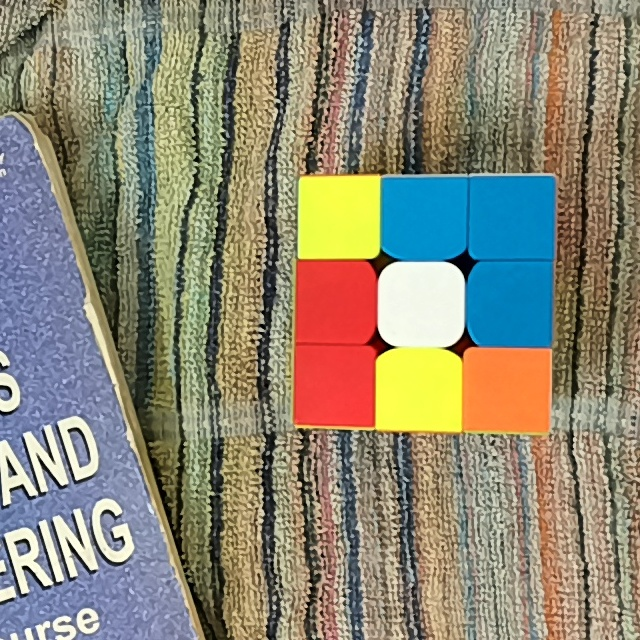tile: (469, 353, 546, 427), (476, 181, 552, 255), (478, 267, 550, 340), (386, 181, 460, 251), (304, 182, 375, 251), (300, 349, 371, 418), (385, 355, 456, 424), (303, 264, 369, 335), (389, 268, 455, 338)
